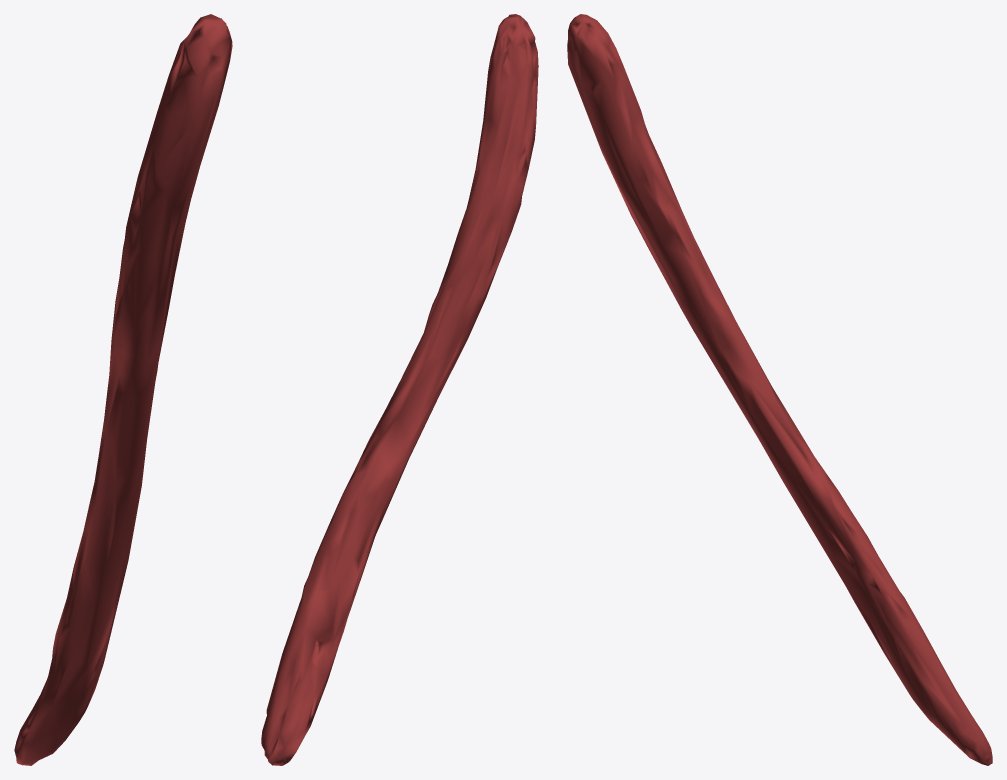
File: ary-epiglottic-part-of-oblique-arytenoid-muscle-r.glb
3 views of the same model, side by side, from view 1: azimuth 30°, elevation 25°; view 2: azimuth 150°, elevation 25°; view 3: azimuth 270°, elevation 25° (orthographic). The views are drawn at different scales.
Parts seen in each view (by area): view 1: Ary-epiglottic part of oblique arytenoid muscle.r; view 2: Ary-epiglottic part of oblique arytenoid muscle.r; view 3: Ary-epiglottic part of oblique arytenoid muscle.r.
Boxes of the visible parts, x1,y1,x2,y2 form: Ary-epiglottic part of oblique arytenoid muscle.r: (14, 14, 232, 765); Ary-epiglottic part of oblique arytenoid muscle.r: (261, 14, 538, 765); Ary-epiglottic part of oblique arytenoid muscle.r: (567, 14, 992, 765).
Bounding box in the file's own units: 0.00424 × 0.0234 × 0.0126.
